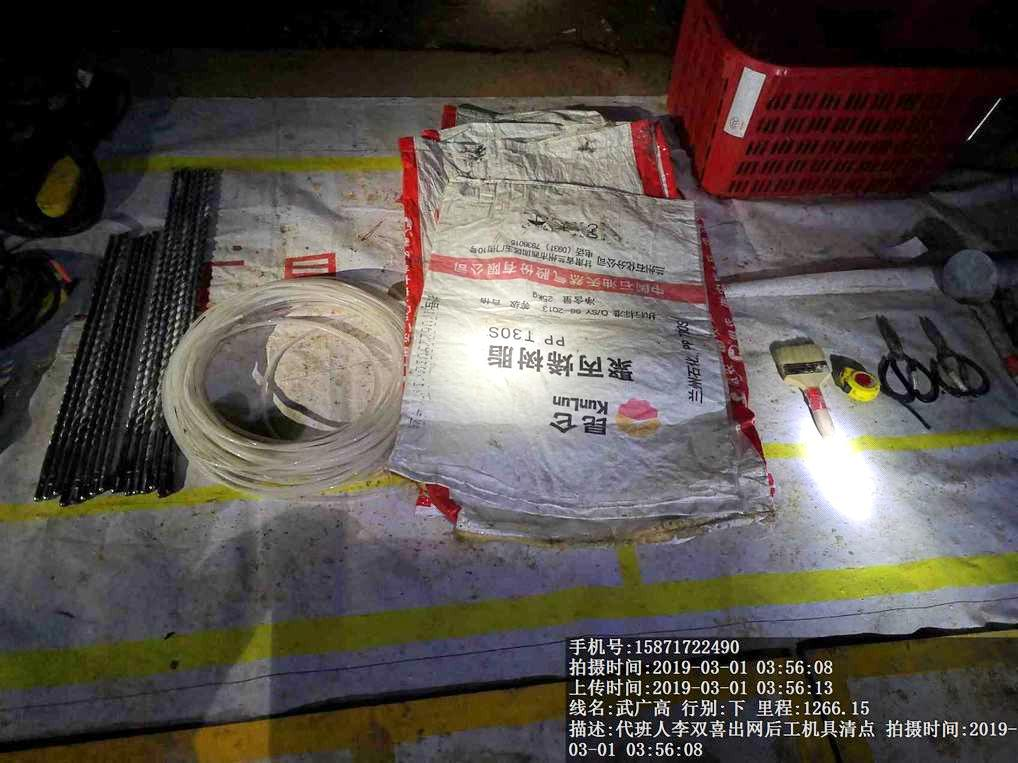BZD: (405, 103, 778, 537)
SG: (156, 268, 404, 499)
